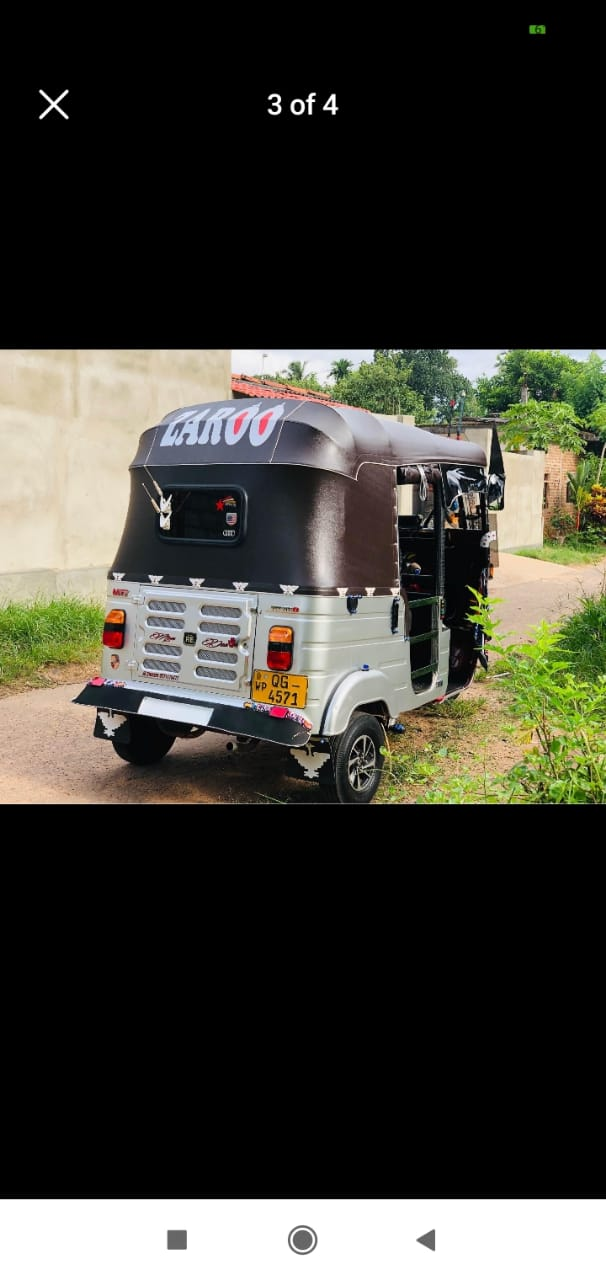number_plate: (245, 666, 312, 712)
